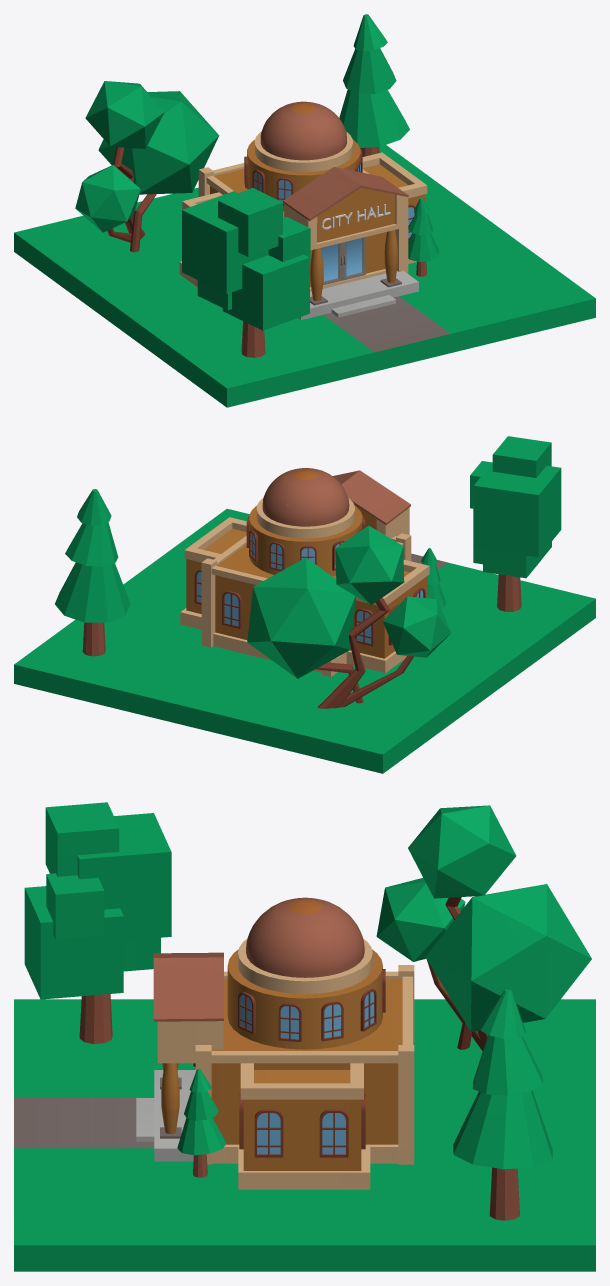
The model's file is cityhall.gltf.
3 views of the same model, one above another, from view 1: azimuth 30°, elevation 25°; view 2: azimuth 150°, elevation 25°; view 3: azimuth 270°, elevation 25° (orthographic). The views are drawn at different scales.
Visible parts, largest first — view 1: CityHall; view 2: CityHall; view 3: CityHall.
Part boxes in pixels (x1,y1,x2,y2): CityHall: [14, 14, 595, 407]; CityHall: [14, 436, 595, 773]; CityHall: [14, 802, 595, 1271].
Bounding box in the file's own units: 2 × 0.9842 × 2.
1 material, 1 textured.
